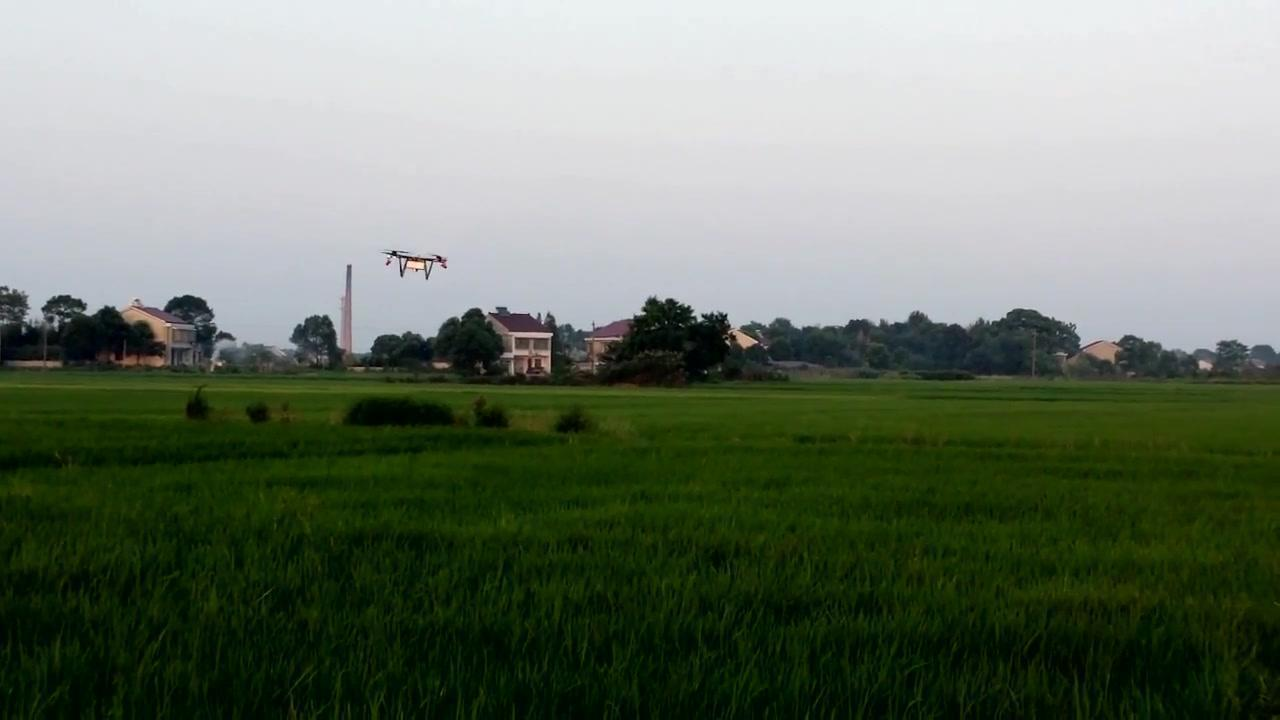UAV: (380, 250, 449, 282)
